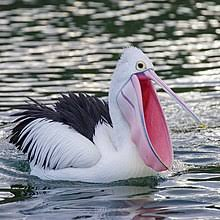pelican: (5, 46, 203, 183)
